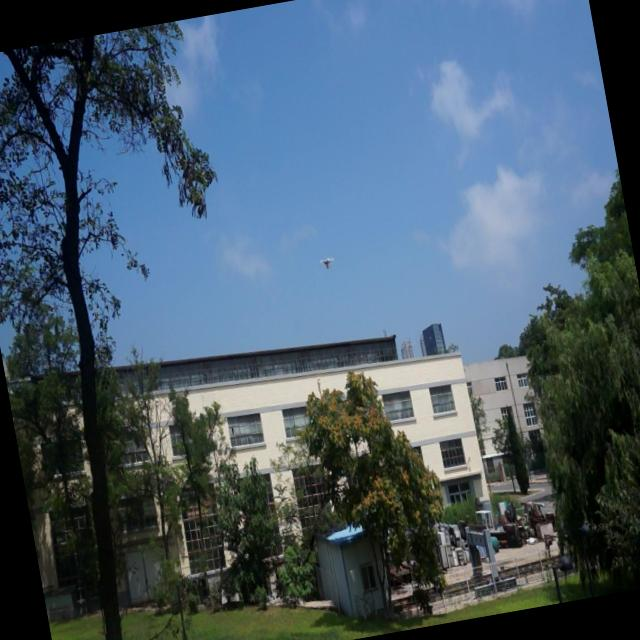drone: (315, 248, 340, 278)
